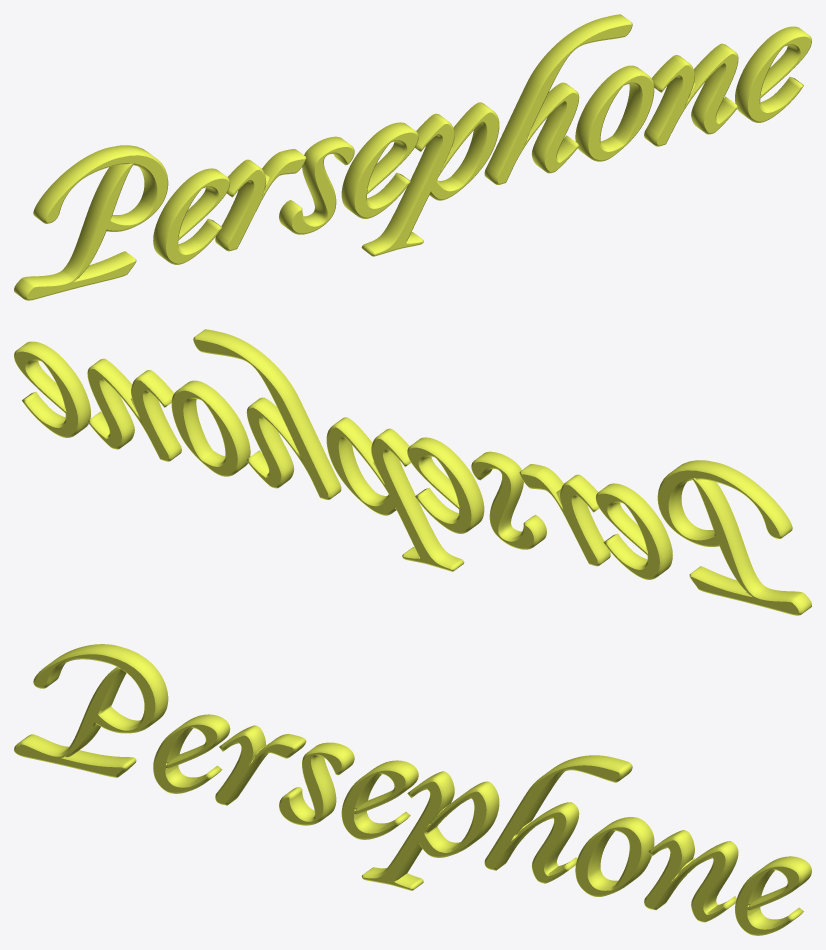
The model's file is persephone.glb.
The picture shows the model from 3 angles, top to bottom: view 1: azimuth 30°, elevation 25°; view 2: azimuth 150°, elevation 25°; view 3: azimuth 330°, elevation 25°; orthographic projection.
Parts seen in each view (by area): view 1: Text; view 2: Text; view 3: Text.
Boxes of the visible parts, <box> form: Text: <box>14,14,811,300</box>; Text: <box>14,329,811,615</box>; Text: <box>14,644,811,935</box>.
Bounding box in the file's own units: 3.77 × 0.7943 × 0.1.
